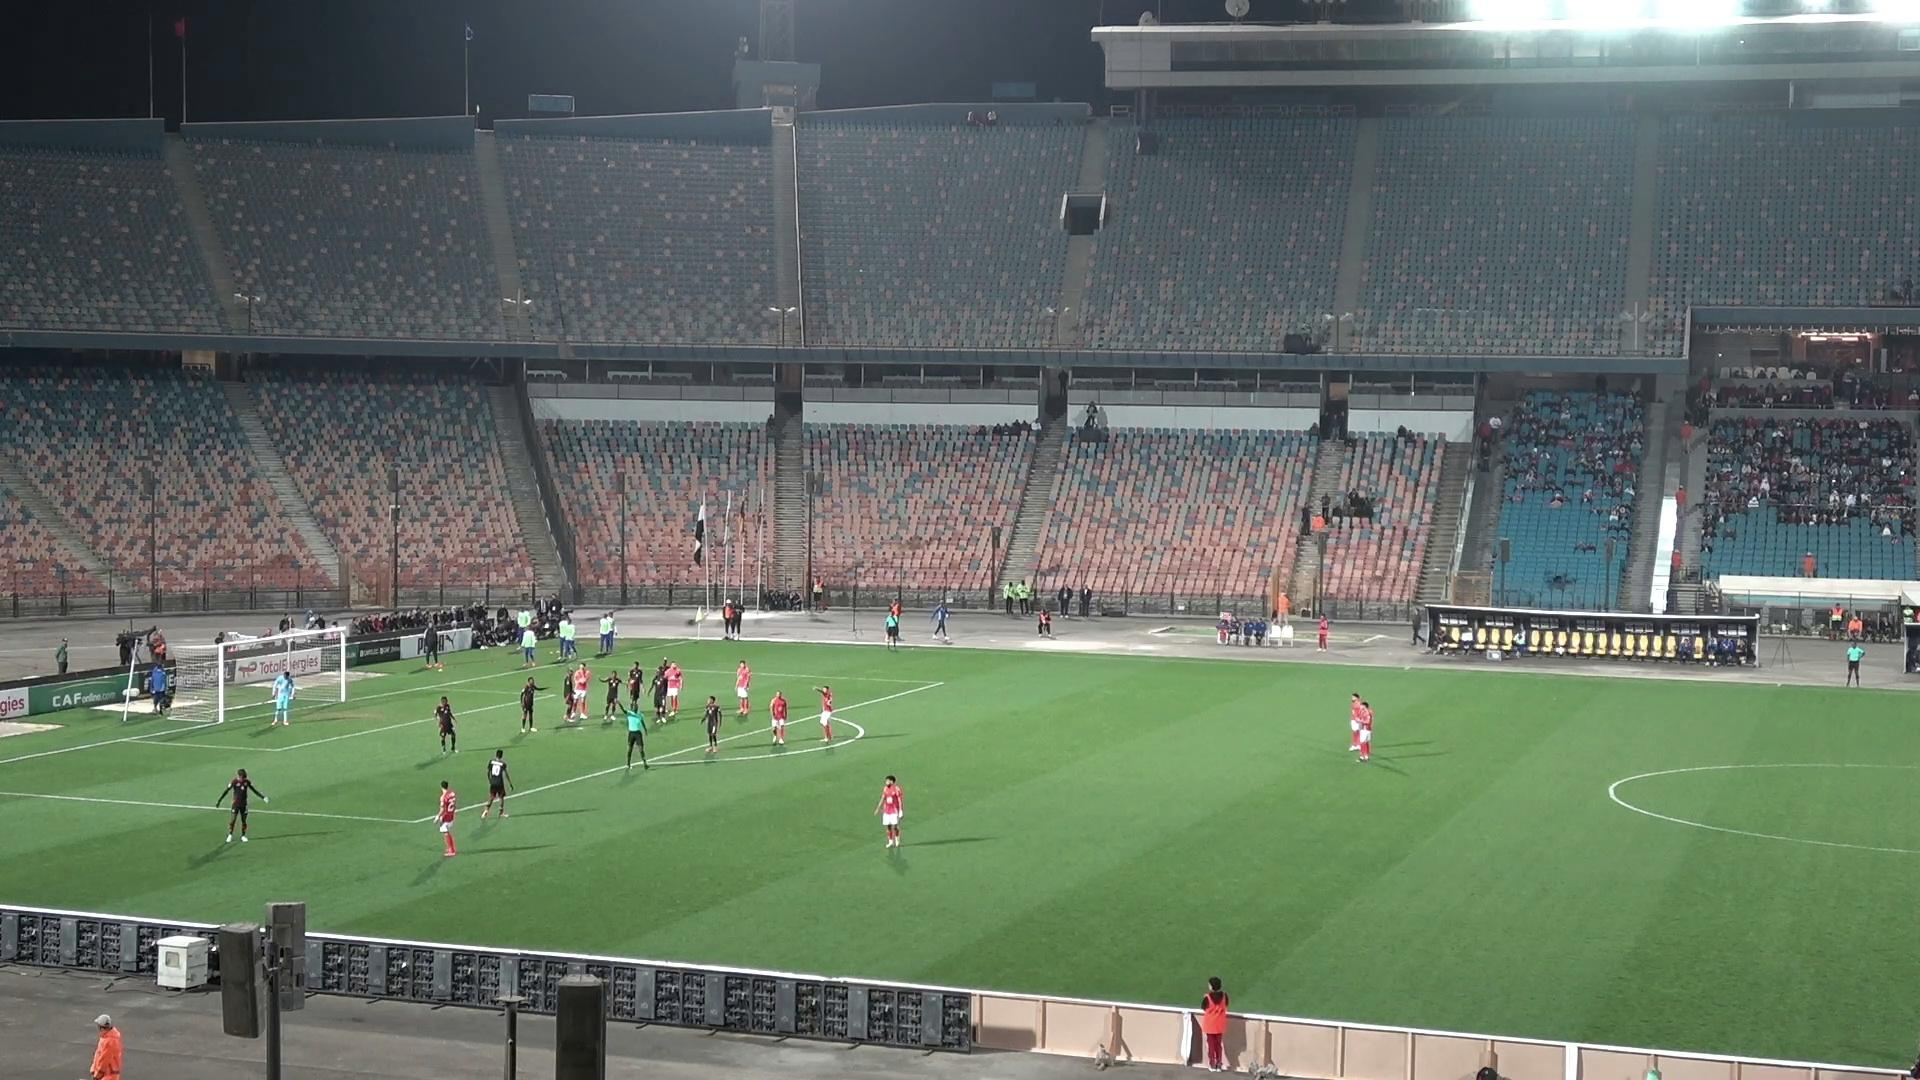GK2: (269, 670, 297, 727)
Refree: (624, 704, 647, 767), (1844, 636, 1865, 686), (884, 600, 902, 650)
Team1: (873, 775, 905, 847), (433, 781, 459, 857), (568, 662, 592, 723), (1354, 700, 1375, 762), (1349, 694, 1367, 756), (665, 661, 683, 715), (816, 684, 833, 742), (735, 661, 752, 715), (771, 692, 789, 745)
Team2: (220, 767, 266, 841), (481, 748, 513, 819), (650, 665, 679, 723), (433, 696, 458, 752), (520, 676, 543, 733), (702, 696, 723, 753), (601, 671, 624, 723), (626, 661, 645, 709), (562, 669, 575, 727), (655, 657, 671, 680)
